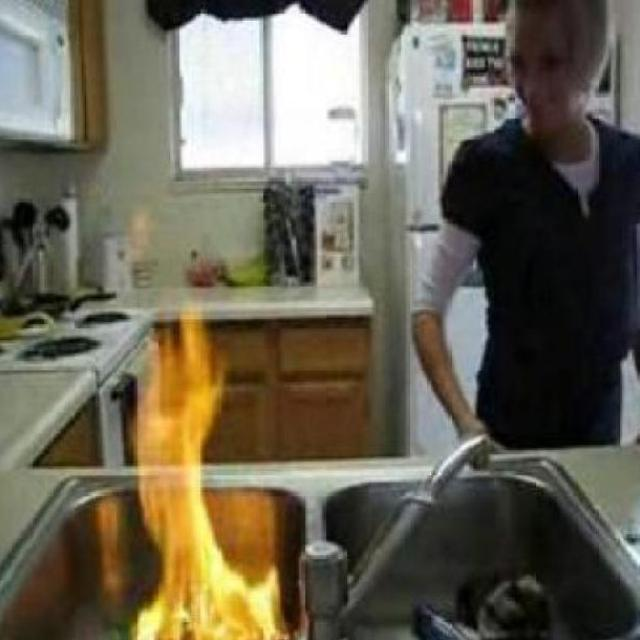smoke: (100, 310, 291, 640)
